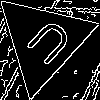U: (18, 16, 75, 74)
